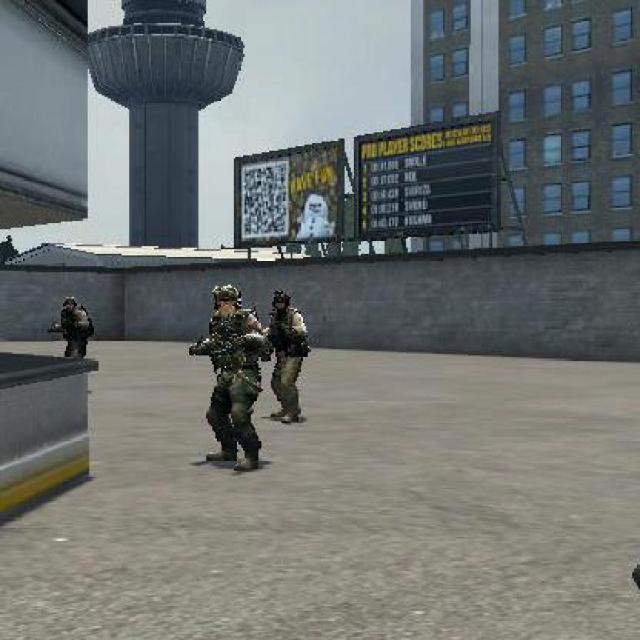CT: (188, 284, 270, 472), (263, 291, 308, 424), (50, 297, 96, 391)
CT_HEAD: (212, 286, 242, 320), (269, 290, 294, 316), (62, 297, 78, 314)
